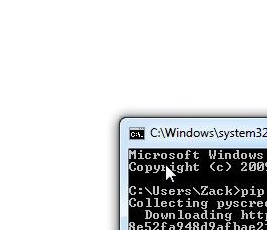cursor: (163, 163, 176, 183)
